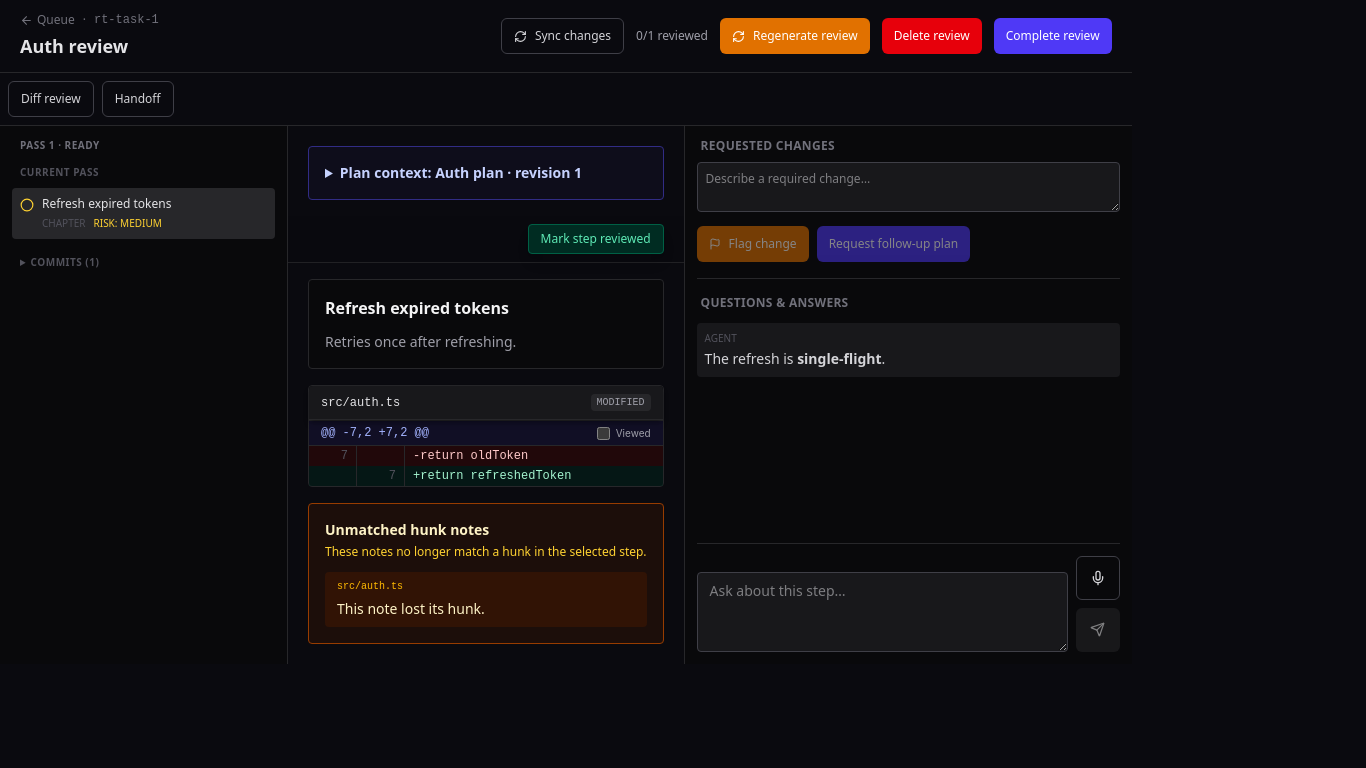
Test: ReviewTourPage › sends selected diff lines with a question and clears the selection
Click the button named "Select old line 7": (333, 456) [309,446,357,466]
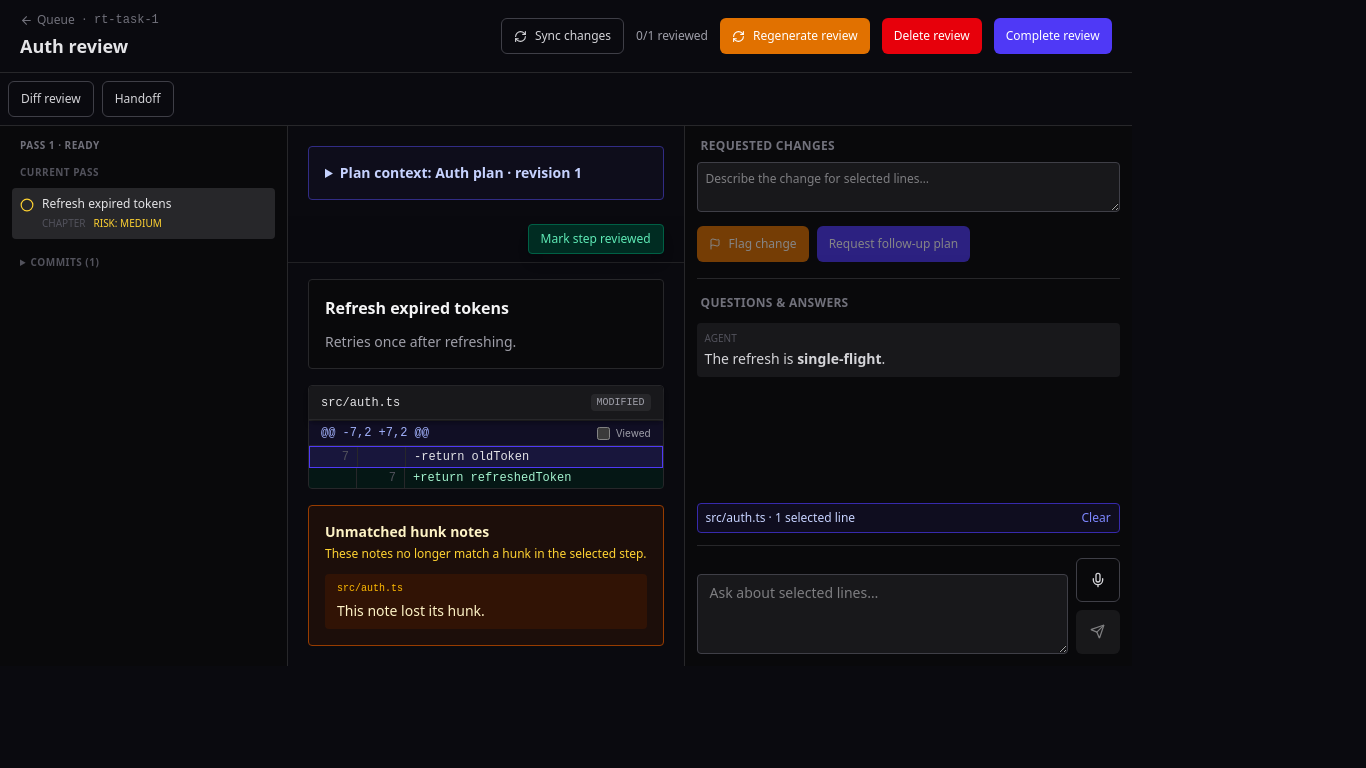
Click the button named "Select new line 7": (381, 478) [357,468,405,488]
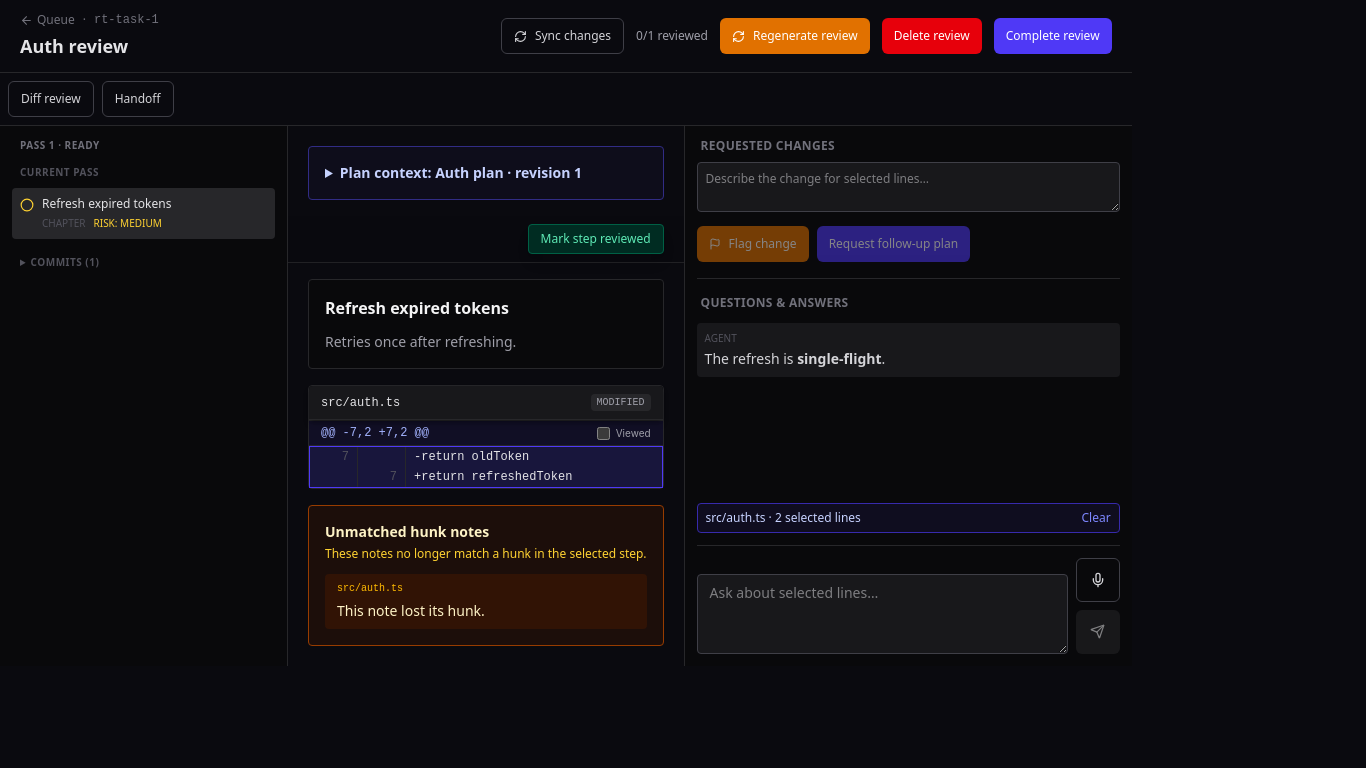
Expected: the text "src/auth.ts · 2 selected lines" is shown, [706,510,861,526]
In the text box named "Question for agent": (882, 614) [697,574,1068,654], type "Is this refresh safe?"
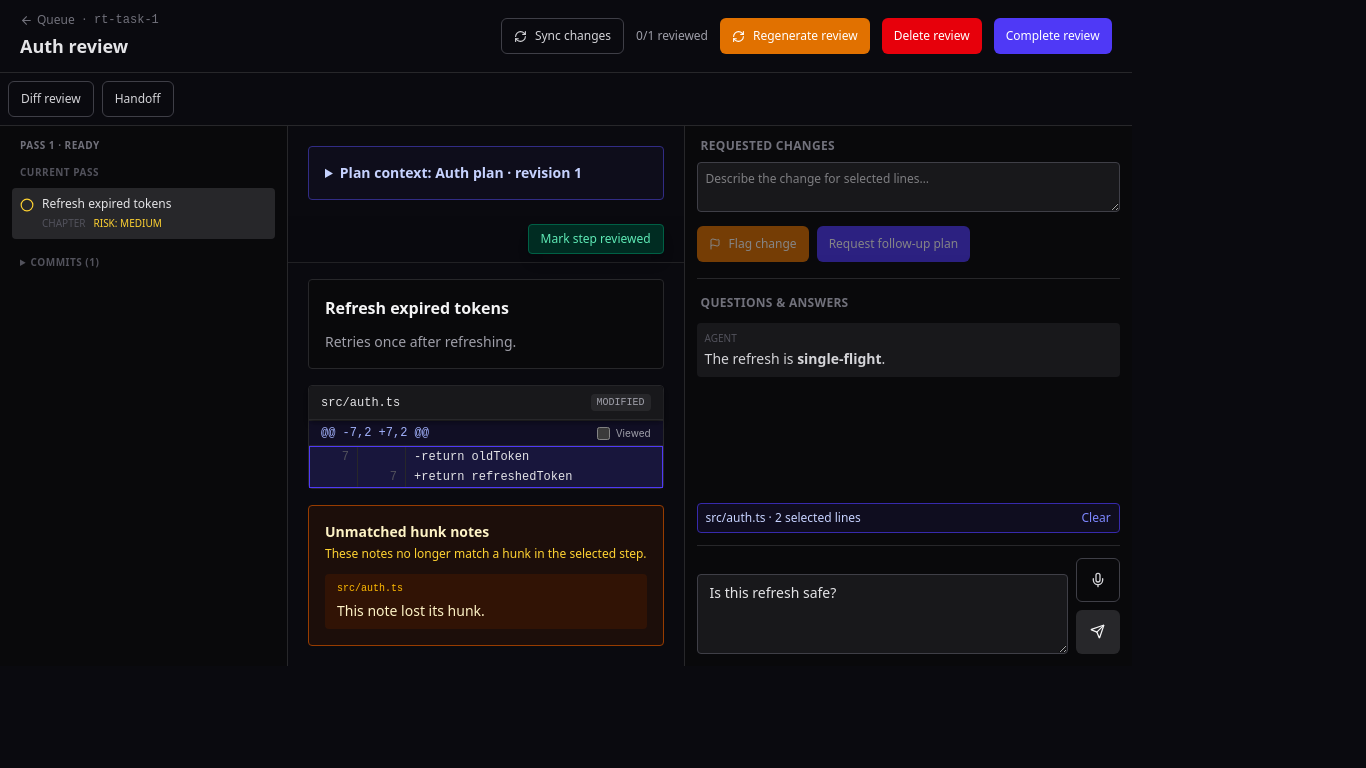
Click the button named "Ask agent": (1098, 632) [1076,610,1120,654]
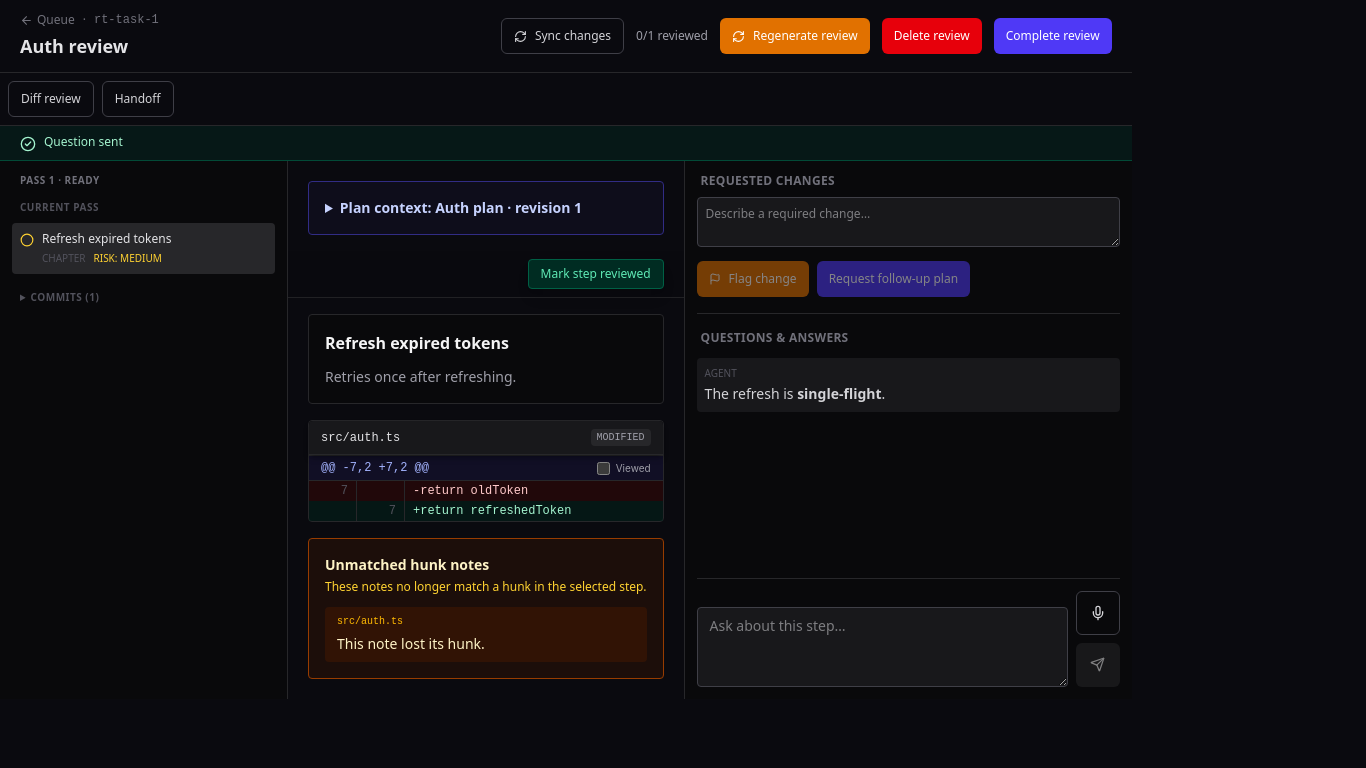
Expected: the text "src/auth.ts · 2 selected lines" is gone
